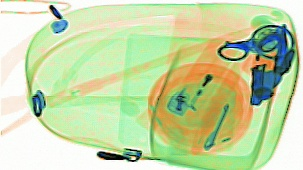lighter: (165, 35, 236, 119)
